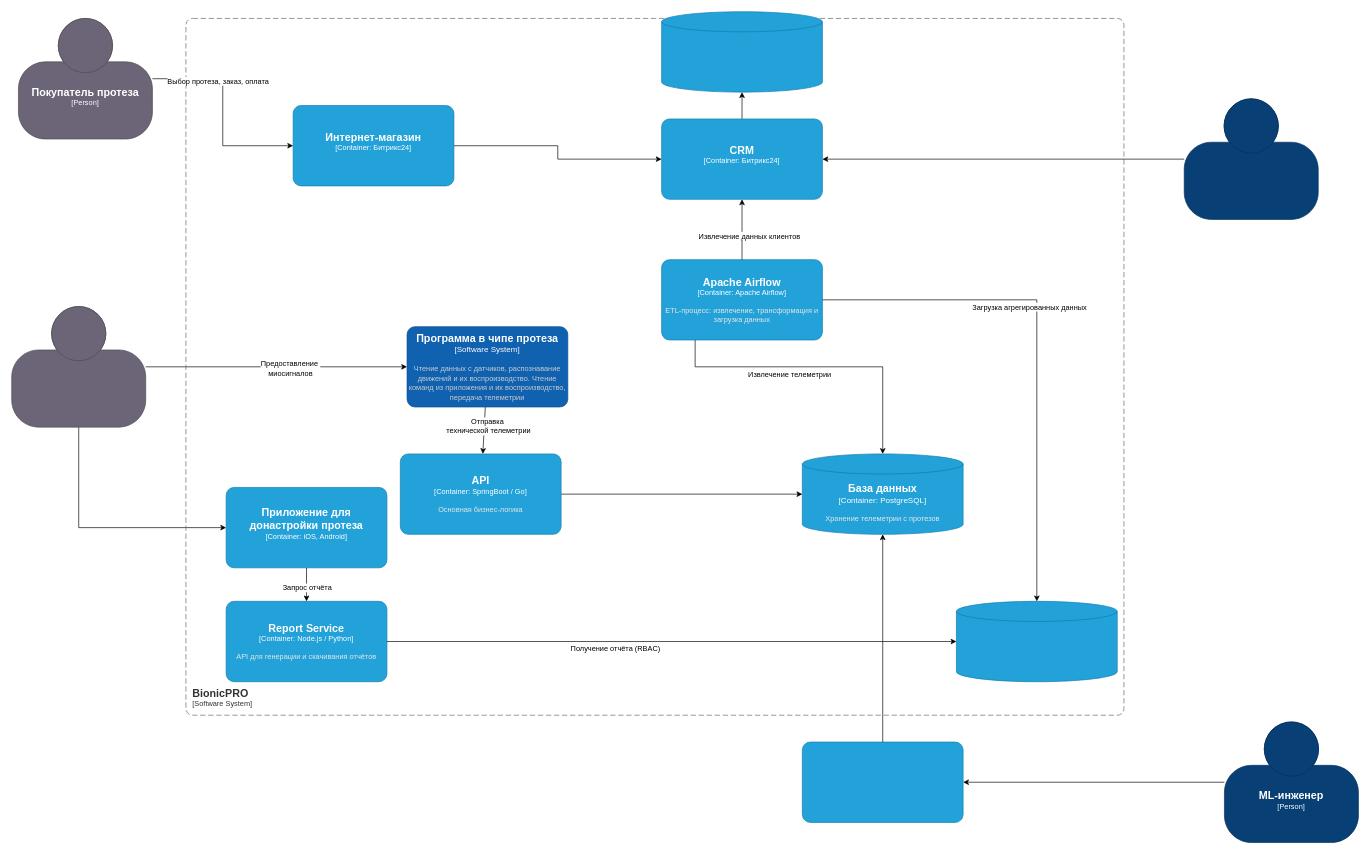
Image size: 1370x854. Some labels were removed from this diagram. Here are the shapes that lost their labels. From the top down, the box of each, then its label:
(661, 11, 822, 92): CRM DB [Container: Битрикс24 DB]
(1184, 98, 1318, 219): Оператор производства [Person]
(11, 306, 146, 427): Пилот протеза [Person] С этого человека считываются данные
(956, 601, 1117, 682): ClickHouse [Container: ClickHouse] OLAP база для хранения витрины отчётов
(802, 741, 963, 822): cli tool [Container: Python / Bash]
